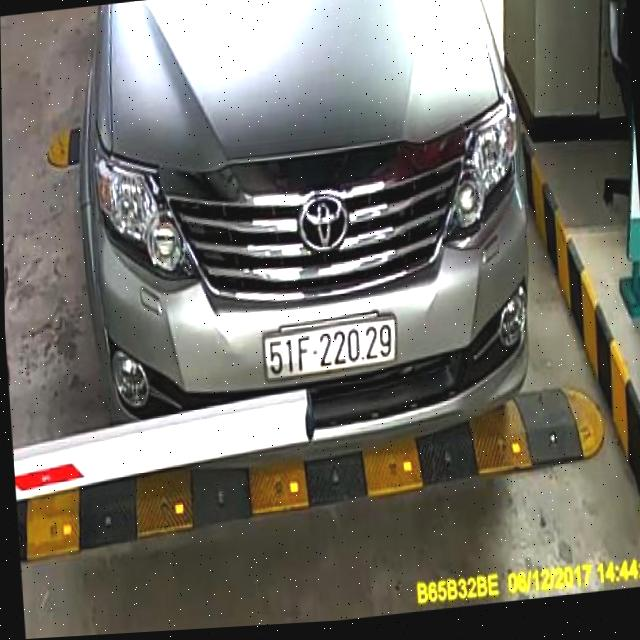car: (68, 0, 547, 487)
plate: (257, 313, 401, 388)
